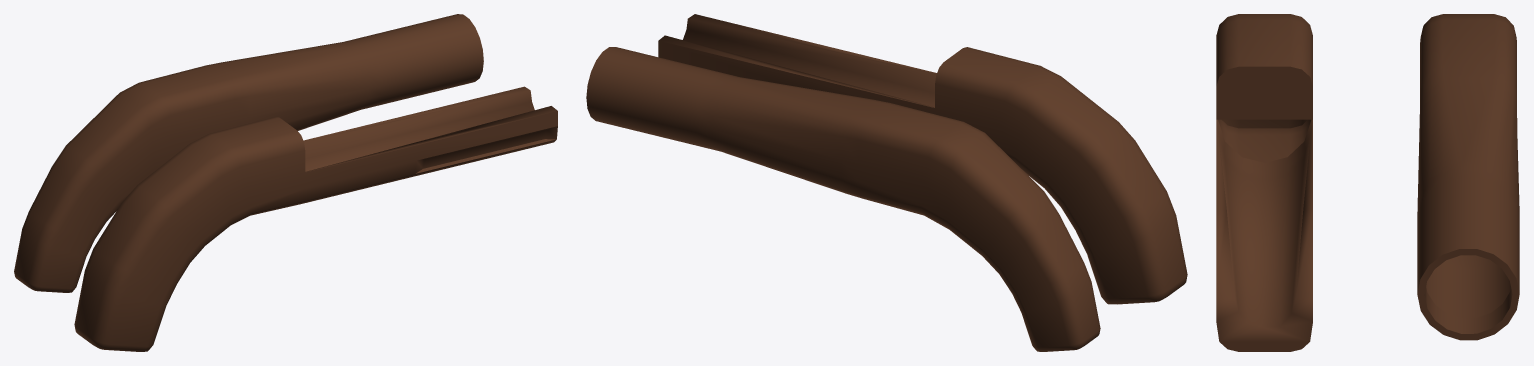
Rendered from BaseArmas.fbx.
3 views of the same model, side by side, from view 1: azimuth 30°, elevation 25°; view 2: azimuth 150°, elevation 25°; view 3: azimuth 270°, elevation 25° (orthographic). The views are drawn at different scales.
Visible parts, largest first — view 1: ArmaTipo1, ArmaTipo2; view 2: ArmaTipo2, ArmaTipo1; view 3: ArmaTipo1, ArmaTipo2.
Boxes of the visible parts, x1,y1,x2,y2 form: ArmaTipo1: (74, 86, 557, 351); ArmaTipo2: (14, 14, 483, 292); ArmaTipo2: (586, 47, 1100, 351); ArmaTipo1: (658, 14, 1187, 304); ArmaTipo1: (1216, 14, 1312, 351); ArmaTipo2: (1417, 14, 1519, 340).
Bounding box in the file's own units: 571 × 218 × 225.
